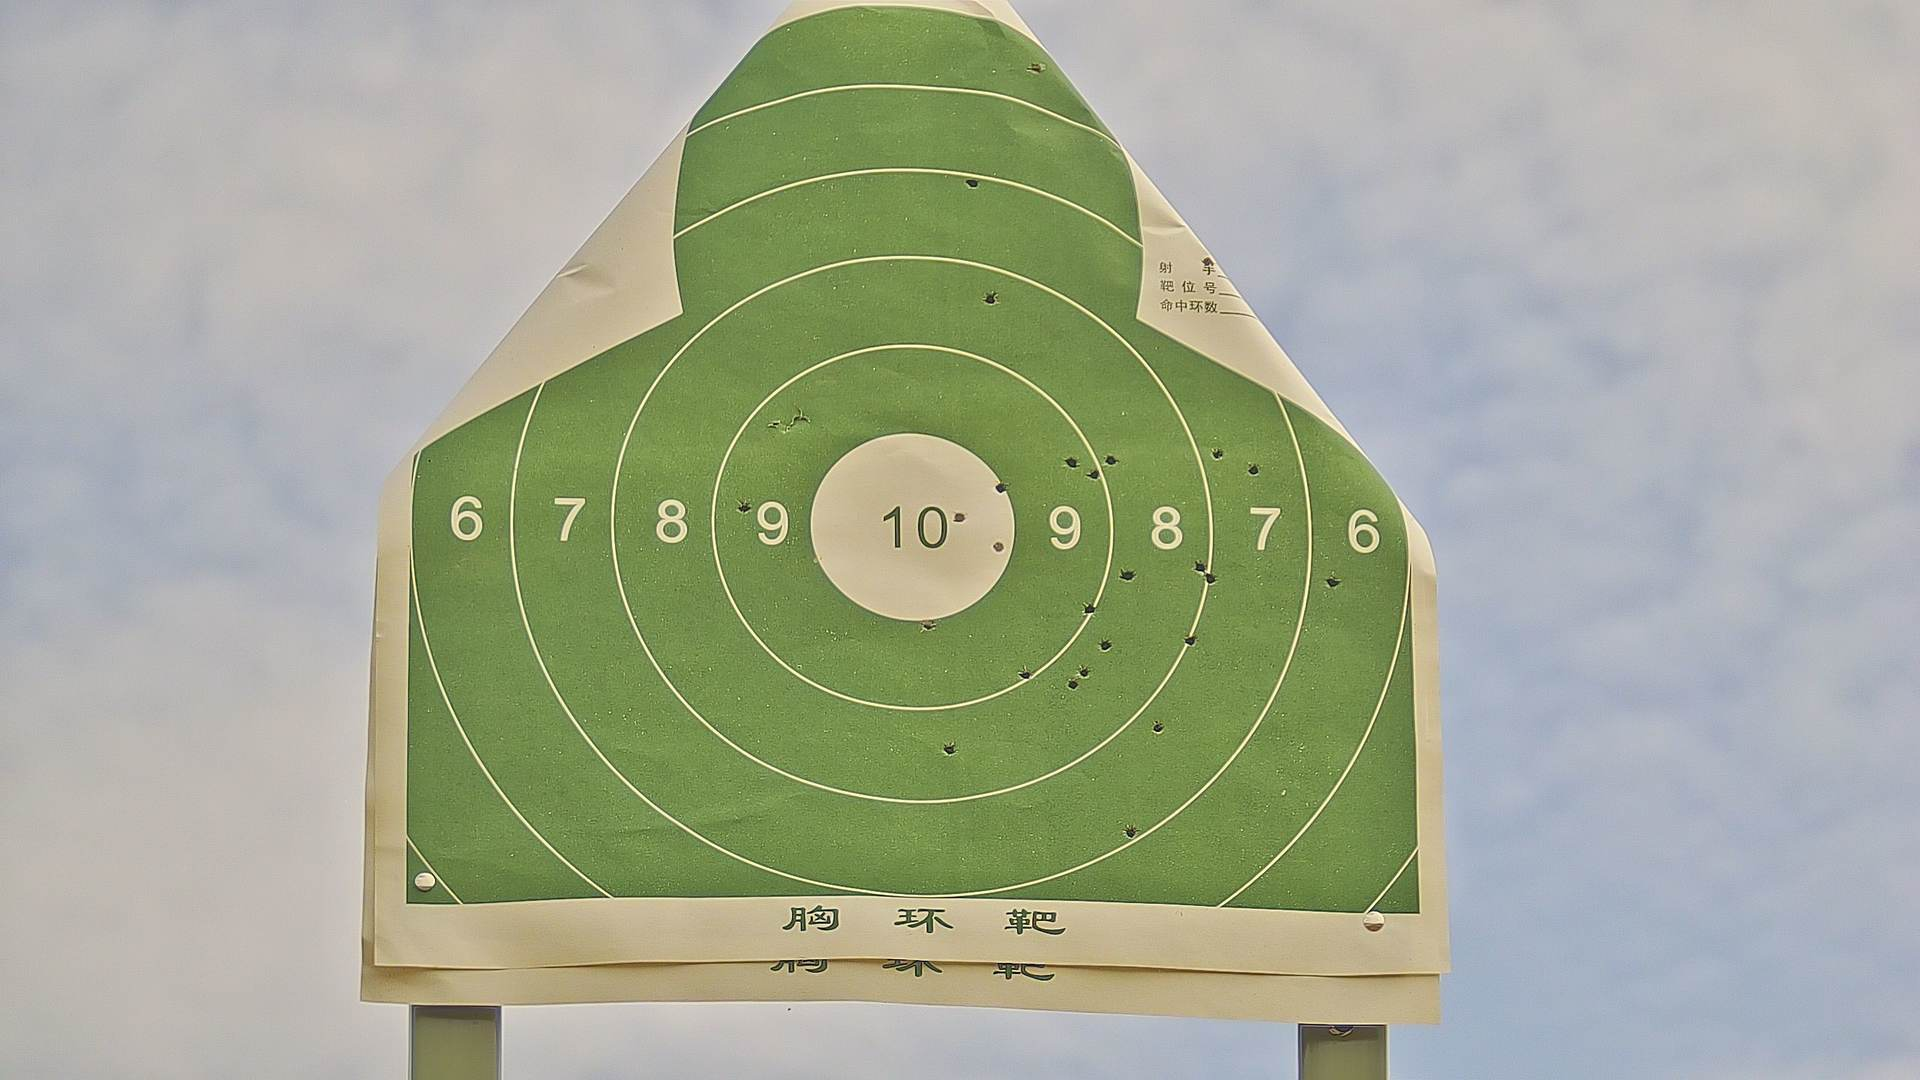hole: (1116, 564, 1143, 589), (934, 738, 959, 762), (915, 618, 942, 638), (1073, 661, 1097, 682), (961, 174, 982, 196), (982, 286, 1004, 309), (1101, 448, 1124, 469), (1073, 599, 1102, 615), (1320, 568, 1340, 591), (1065, 450, 1084, 473), (1062, 675, 1083, 695), (1189, 556, 1209, 578), (1246, 458, 1263, 481), (1121, 822, 1138, 845), (992, 535, 1007, 560), (1183, 628, 1203, 647), (1096, 634, 1117, 653), (992, 473, 1007, 497), (1087, 465, 1102, 489), (732, 496, 750, 516), (953, 504, 968, 527), (1029, 57, 1046, 76), (1200, 572, 1218, 589), (1149, 716, 1164, 735), (1015, 665, 1030, 684), (1209, 444, 1222, 462)
target: (407, 3, 1419, 905)
ten: (806, 429, 1021, 624)
